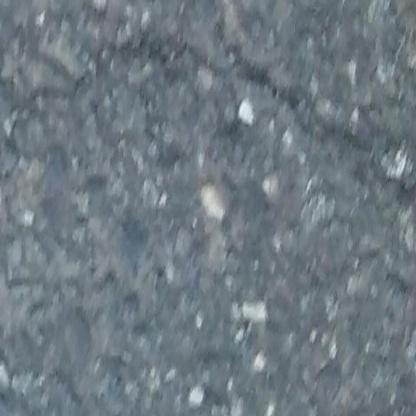Cracks: (0, 17, 416, 232)
